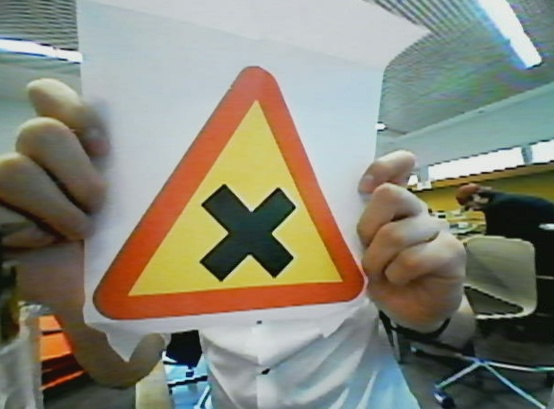junction: (83, 62, 382, 327)
